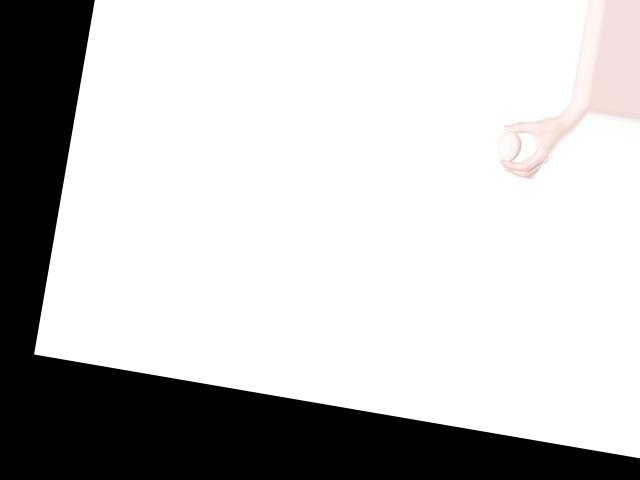egg: (495, 128, 523, 163)
